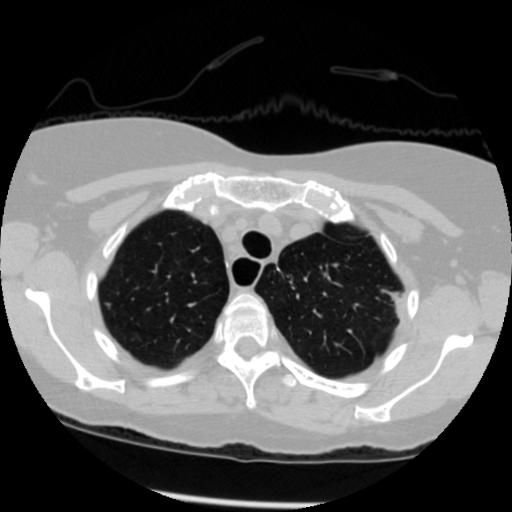nodule: (104, 299, 117, 312)
